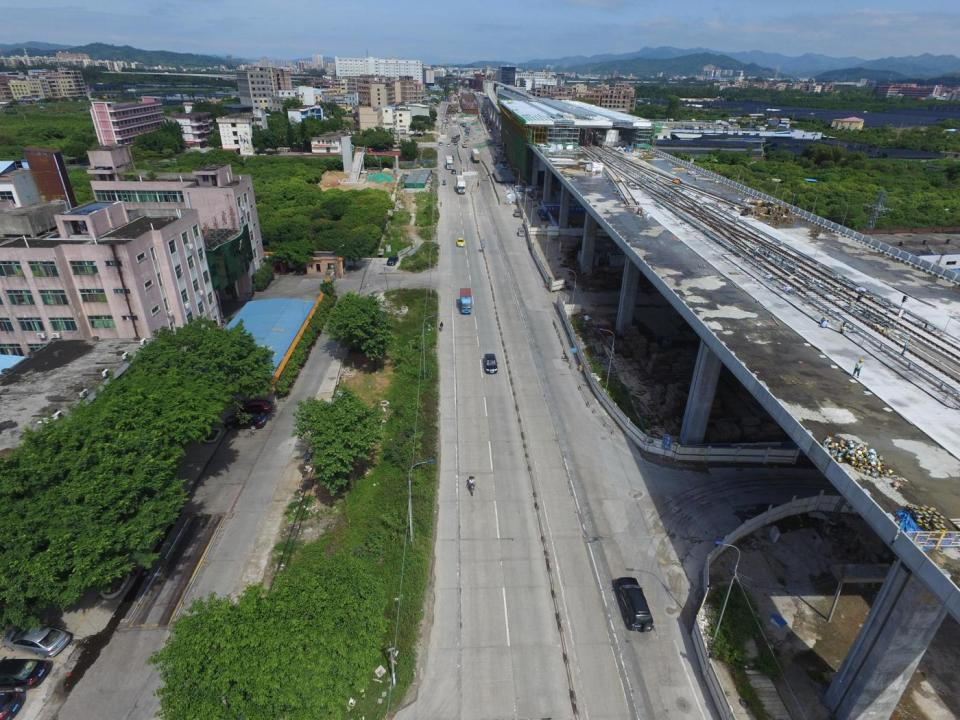bus: (451, 134, 460, 142)
car: (2, 624, 71, 658), (0, 658, 51, 689), (225, 413, 265, 429), (239, 400, 271, 411), (484, 353, 497, 374), (386, 256, 399, 266), (456, 237, 464, 246), (540, 213, 548, 221), (537, 210, 544, 215), (451, 169, 457, 174), (453, 141, 458, 145), (437, 142, 443, 145), (446, 142, 450, 146), (480, 110, 483, 114), (484, 110, 488, 113), (488, 129, 492, 132), (453, 121, 457, 123)
truck: (459, 288, 472, 314), (455, 175, 465, 195), (470, 148, 479, 164), (446, 156, 453, 170), (487, 122, 492, 130), (484, 117, 488, 123)
van: (617, 577, 652, 633), (514, 209, 520, 217), (518, 228, 524, 236)
